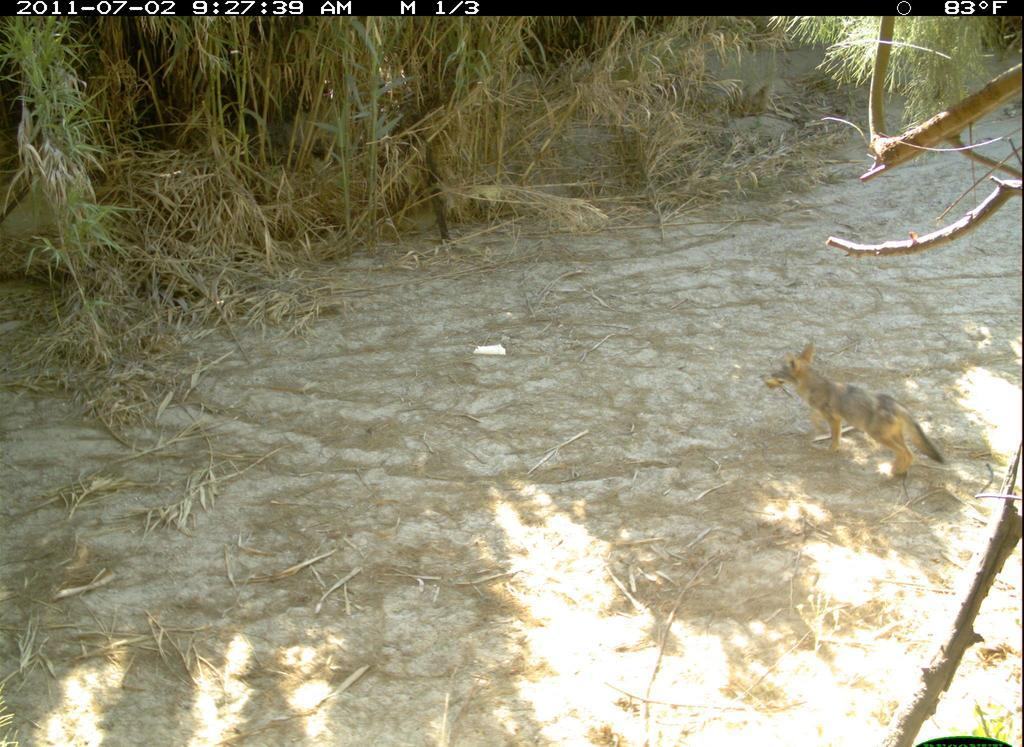coyote: (758, 341, 958, 493)
